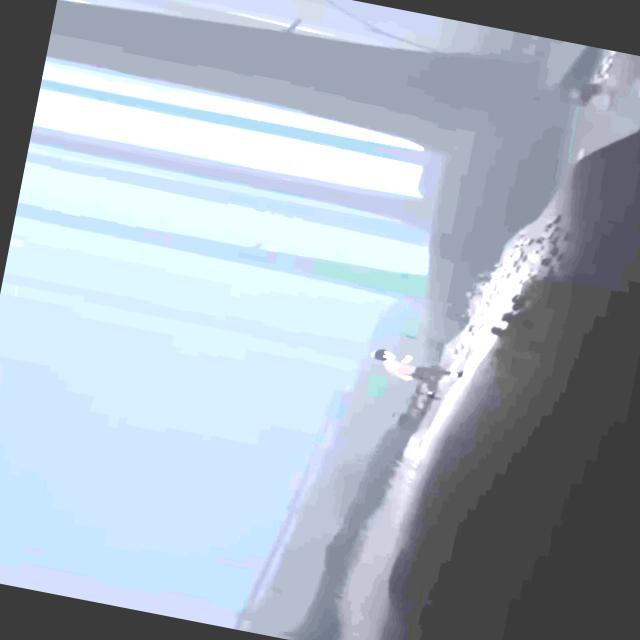boy: (365, 348, 458, 400)
